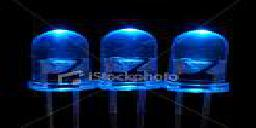LED: (25, 26, 95, 126), (98, 22, 163, 128), (167, 25, 231, 126)
